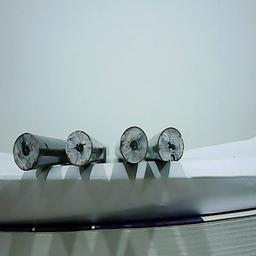pen: (12, 129, 41, 171), (119, 125, 144, 162), (157, 128, 183, 163), (66, 132, 92, 165)
